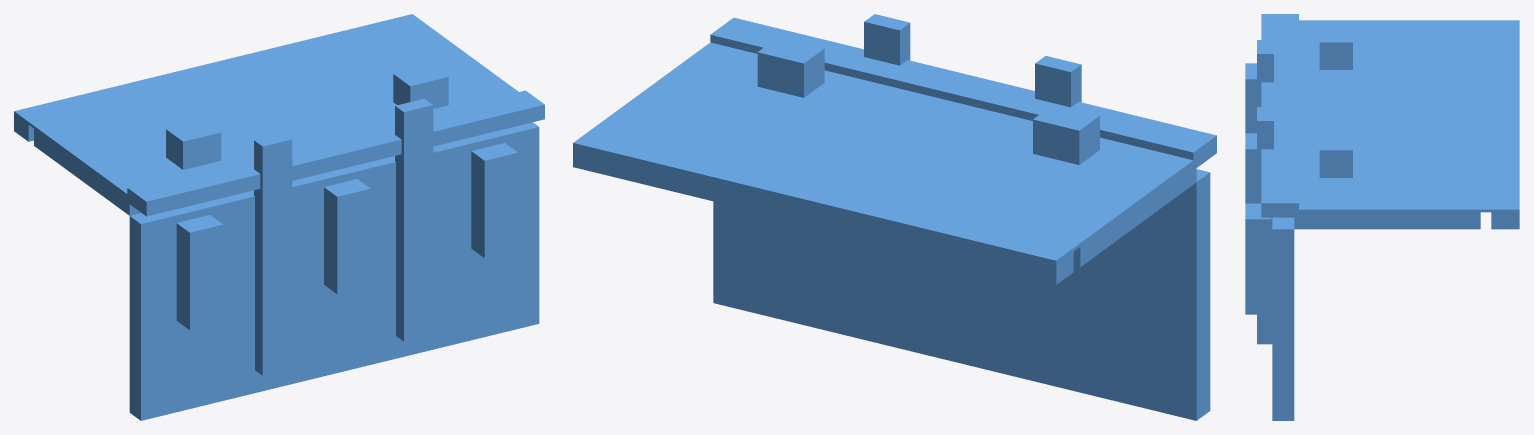
Rendered from ProjectZ_QY10_CargoPortQuay_Collision.glb.
The picture shows the model from 3 angles, left to right: view 1: azimuth 30°, elevation 25°; view 2: azimuth 150°, elevation 25°; view 3: azimuth 270°, elevation 25°; orthographic projection. The views are drawn at different scales.
Parts seen in each view (by area): view 1: UCX_QY10_WALL_PANEL_01, UCX_QY10_WALL_PANEL_05, UCX_QY10_WALL_PANEL_03, UCX_QY10_WALL_PANEL_04, UCX_QY10_WALL_PANEL_02, UCX_QY10_LADDER_02, UCX_QY10_LADDER_01, UCX_QY10_DECK_MAIN_01, UCX_QY10_DECK_MAIN_03, UCX_QY10_DECK_MAIN_04, UCX_QY10_DECK_MAIN_05, UCX_QY10_FENDER_01 (+16 smaller); view 2: UCX_QY10_WALL_PANEL_01, UCX_QY10_DECK_MAIN_01, UCX_QY10_WALL_PANEL_02, UCX_QY10_DECK_MAIN_03, UCX_QY10_WALL_PANEL_03, UCX_QY10_WALL_PANEL_05, UCX_QY10_WALL_PANEL_04, UCX_QY10_DECK_MAIN_04, UCX_QY10_DECK_MAIN_05, UCX_QY10_DECK_MAIN_02, UCX_QY10_DECK_LANDSIDE_01, UCX_QY10_DECK_LANDSIDE_04 (+17 smaller); view 3: UCX_QY10_DECK_MAIN_05, UCX_QY10_DECK_MAIN_03, UCX_QY10_DECK_MAIN_02, UCX_QY10_DECK_MAIN_01, UCX_QY10_DECK_MAIN_04, UCX_QY10_WALL_PANEL_05, UCX_QY10_FENDER_03, UCX_QY10_COPING_05, UCX_QY10_DECK_LANDSIDE_05, UCX_QY10_LADDER_02, UCX_QY10_BOLLARD_01, UCX_QY10_BOLLARD_02 (+16 smaller).
Boxes of the visible parts, x1,y1,x2,y2 form: UCX_QY10_WALL_PANEL_01: (129,200,220,420); UCX_QY10_WALL_PANEL_05: (454,122,539,342); UCX_QY10_WALL_PANEL_03: (294,161,379,381); UCX_QY10_WALL_PANEL_04: (374,141,459,362); UCX_QY10_WALL_PANEL_02: (214,180,300,401); UCX_QY10_LADDER_02: (395,98,433,341); UCX_QY10_LADDER_01: (254,133,292,375); UCX_QY10_DECK_MAIN_01: (34,106,199,215); UCX_QY10_DECK_MAIN_03: (194,67,359,147); UCX_QY10_DECK_MAIN_04: (273,48,438,130); UCX_QY10_DECK_MAIN_05: (353,28,518,111); UCX_QY10_FENDER_01: (176,215,223,330); UCX_QY10_WALL_PANEL_01: (1100,169,1210,420); UCX_QY10_DECK_MAIN_01: (984,137,1196,267); UCX_QY10_WALL_PANEL_02: (1003,253,1099,397); UCX_QY10_DECK_MAIN_03: (791,89,999,195); UCX_QY10_WALL_PANEL_03: (906,248,1003,373); UCX_QY10_WALL_PANEL_05: (713,201,809,326); UCX_QY10_WALL_PANEL_04: (810,225,906,349); UCX_QY10_DECK_MAIN_04: (694,70,902,172); UCX_QY10_DECK_MAIN_05: (597,42,772,148); UCX_QY10_DECK_MAIN_02: (887,113,1062,219); UCX_QY10_DECK_LANDSIDE_01: (959,224,1073,284); UCX_QY10_DECK_LANDSIDE_04: (669,153,783,213); UCX_QY10_DECK_MAIN_05: (1294,171,1480,229); UCX_QY10_DECK_MAIN_03: (1299,96,1480,133); UCX_QY10_DECK_MAIN_02: (1299,58,1480,95); UCX_QY10_DECK_MAIN_01: (1299,20,1480,57); UCX_QY10_DECK_MAIN_04: (1299,134,1480,171); UCX_QY10_WALL_PANEL_05: (1272,217,1294,420); UCX_QY10_FENDER_03: (1245,203,1271,314); UCX_QY10_COPING_05: (1261,165,1298,217); UCX_QY10_DECK_LANDSIDE_05: (1491,171,1519,229); UCX_QY10_LADDER_02: (1257,107,1273,344); UCX_QY10_BOLLARD_01: (1319,24,1352,69); UCX_QY10_BOLLARD_02: (1319,132,1352,177).
Size of the model in its own units: 10 by 6.05 by 6.12.
